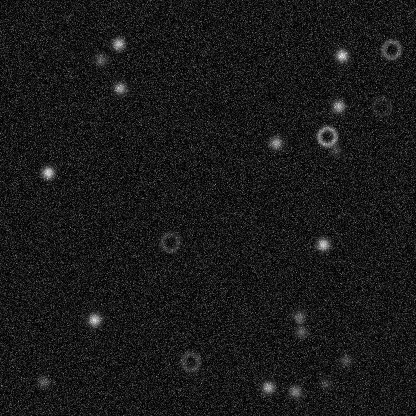Ring: (178, 349, 202, 373), (369, 94, 393, 118), (314, 124, 338, 148), (157, 229, 181, 253), (379, 37, 403, 61)
Spot: (86, 311, 102, 327), (317, 375, 333, 391), (267, 134, 283, 150), (92, 51, 108, 67), (287, 383, 303, 399), (39, 164, 55, 180), (111, 80, 127, 96), (337, 352, 353, 368), (333, 47, 349, 63), (291, 309, 307, 325), (110, 35, 126, 51), (314, 236, 330, 252), (292, 323, 308, 339), (260, 379, 276, 395), (35, 373, 51, 389), (330, 98, 346, 114), (327, 141, 343, 157)
